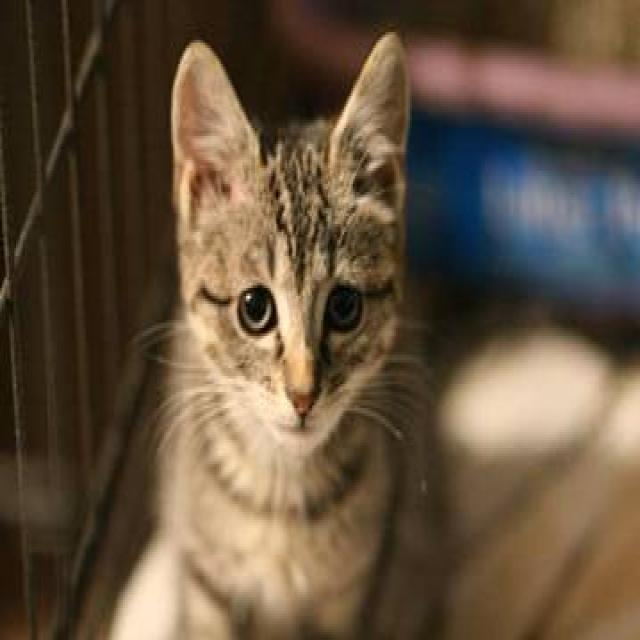cat: (102, 27, 440, 637)
